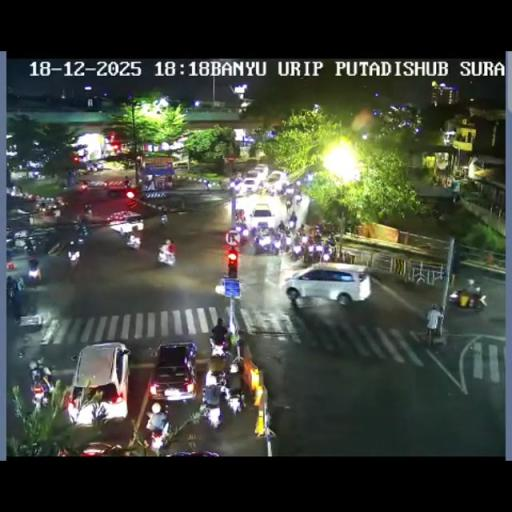Car: (68, 342, 130, 424), (283, 263, 371, 306), (148, 342, 198, 403), (106, 210, 144, 234), (70, 441, 123, 456), (249, 202, 275, 230), (106, 179, 135, 198), (266, 170, 287, 190), (242, 176, 260, 193), (252, 164, 270, 178), (86, 180, 107, 191)
Motorcycle: (144, 404, 170, 452), (30, 365, 54, 408), (448, 286, 485, 311), (202, 364, 228, 394), (7, 278, 25, 320), (424, 304, 442, 345), (202, 398, 222, 430), (208, 336, 230, 363), (226, 385, 244, 416), (253, 230, 274, 254), (65, 390, 80, 423), (231, 222, 249, 246), (157, 245, 176, 267), (310, 240, 328, 262), (66, 248, 80, 275), (23, 234, 44, 252), (27, 264, 42, 286), (290, 240, 304, 259), (278, 230, 288, 252), (126, 235, 140, 250), (282, 183, 296, 197), (228, 359, 239, 374), (76, 229, 86, 245), (249, 224, 259, 240), (54, 196, 66, 209), (236, 208, 245, 222), (312, 226, 322, 238), (6, 228, 14, 243), (276, 220, 286, 232), (78, 180, 88, 192), (25, 192, 37, 202), (38, 202, 48, 214), (326, 234, 335, 247), (82, 207, 92, 218), (298, 223, 306, 236), (51, 206, 61, 216), (228, 181, 238, 191), (156, 204, 166, 214), (86, 162, 95, 173), (159, 214, 167, 226), (452, 191, 460, 203), (285, 197, 292, 210), (30, 170, 40, 179), (95, 160, 104, 170), (260, 186, 269, 195), (74, 222, 82, 232), (301, 234, 309, 244), (288, 218, 295, 228), (296, 194, 302, 204), (205, 180, 211, 190), (295, 180, 301, 187)
